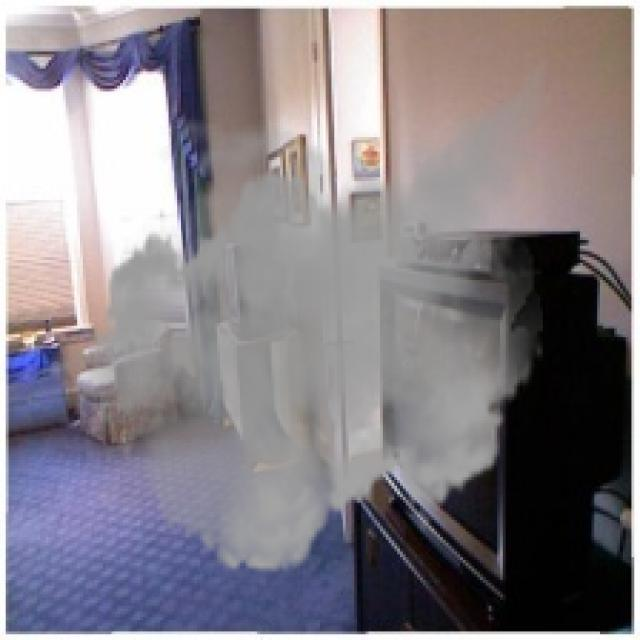Smoke: (48, 29, 563, 588)
